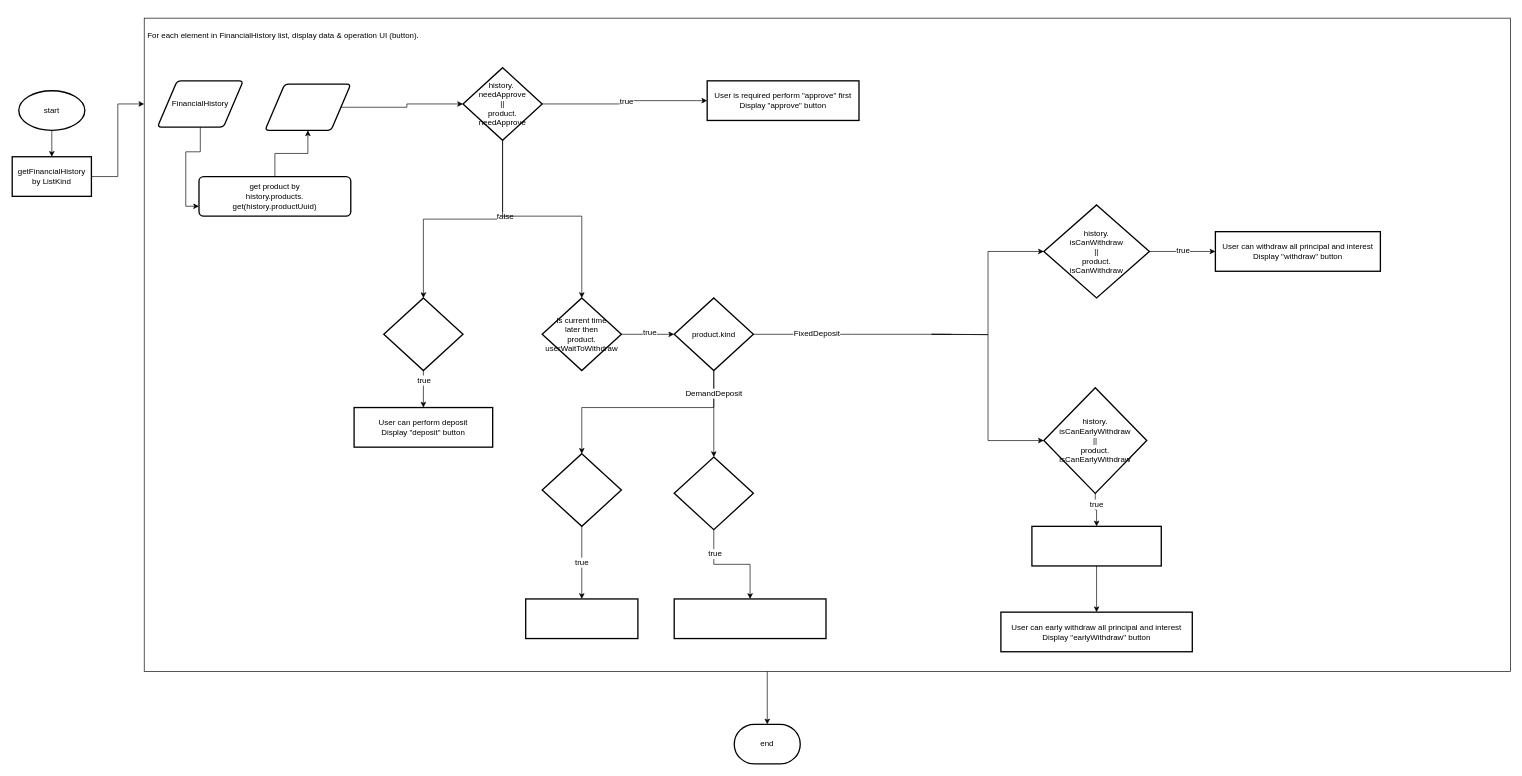
Some shapes in this 1522 by 776 pixel diagram are drawn without their labels. The shapes that lost their labels are listed below. From the top down, each one's centre as x and y in pixels, then its label:
(307,107): FinancialProduct
(423,334): jhistory. isCanDeposit || product. isCanDeposit
(581,490): history. isCanWithdarw || product. isCanWithdraw
(713,493): history. isCanWithdrawReward || product. isCanWithdrawReward
(1096,545): getFinancialOrder for displaying receivable interest
(581,618): User can withdraw principal Display "withdraw" button
(749,618): User can withdraw interest. Display "withdrawReward" button
